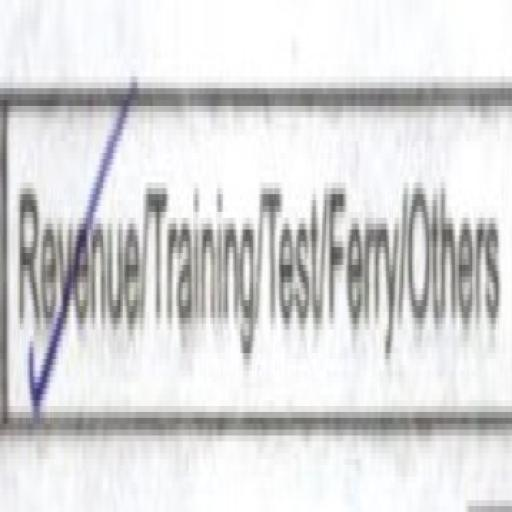check: (5, 88, 148, 461)
